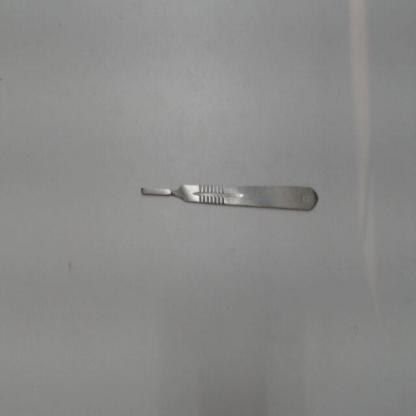No.4 BP Handle: (131, 177, 323, 225)
